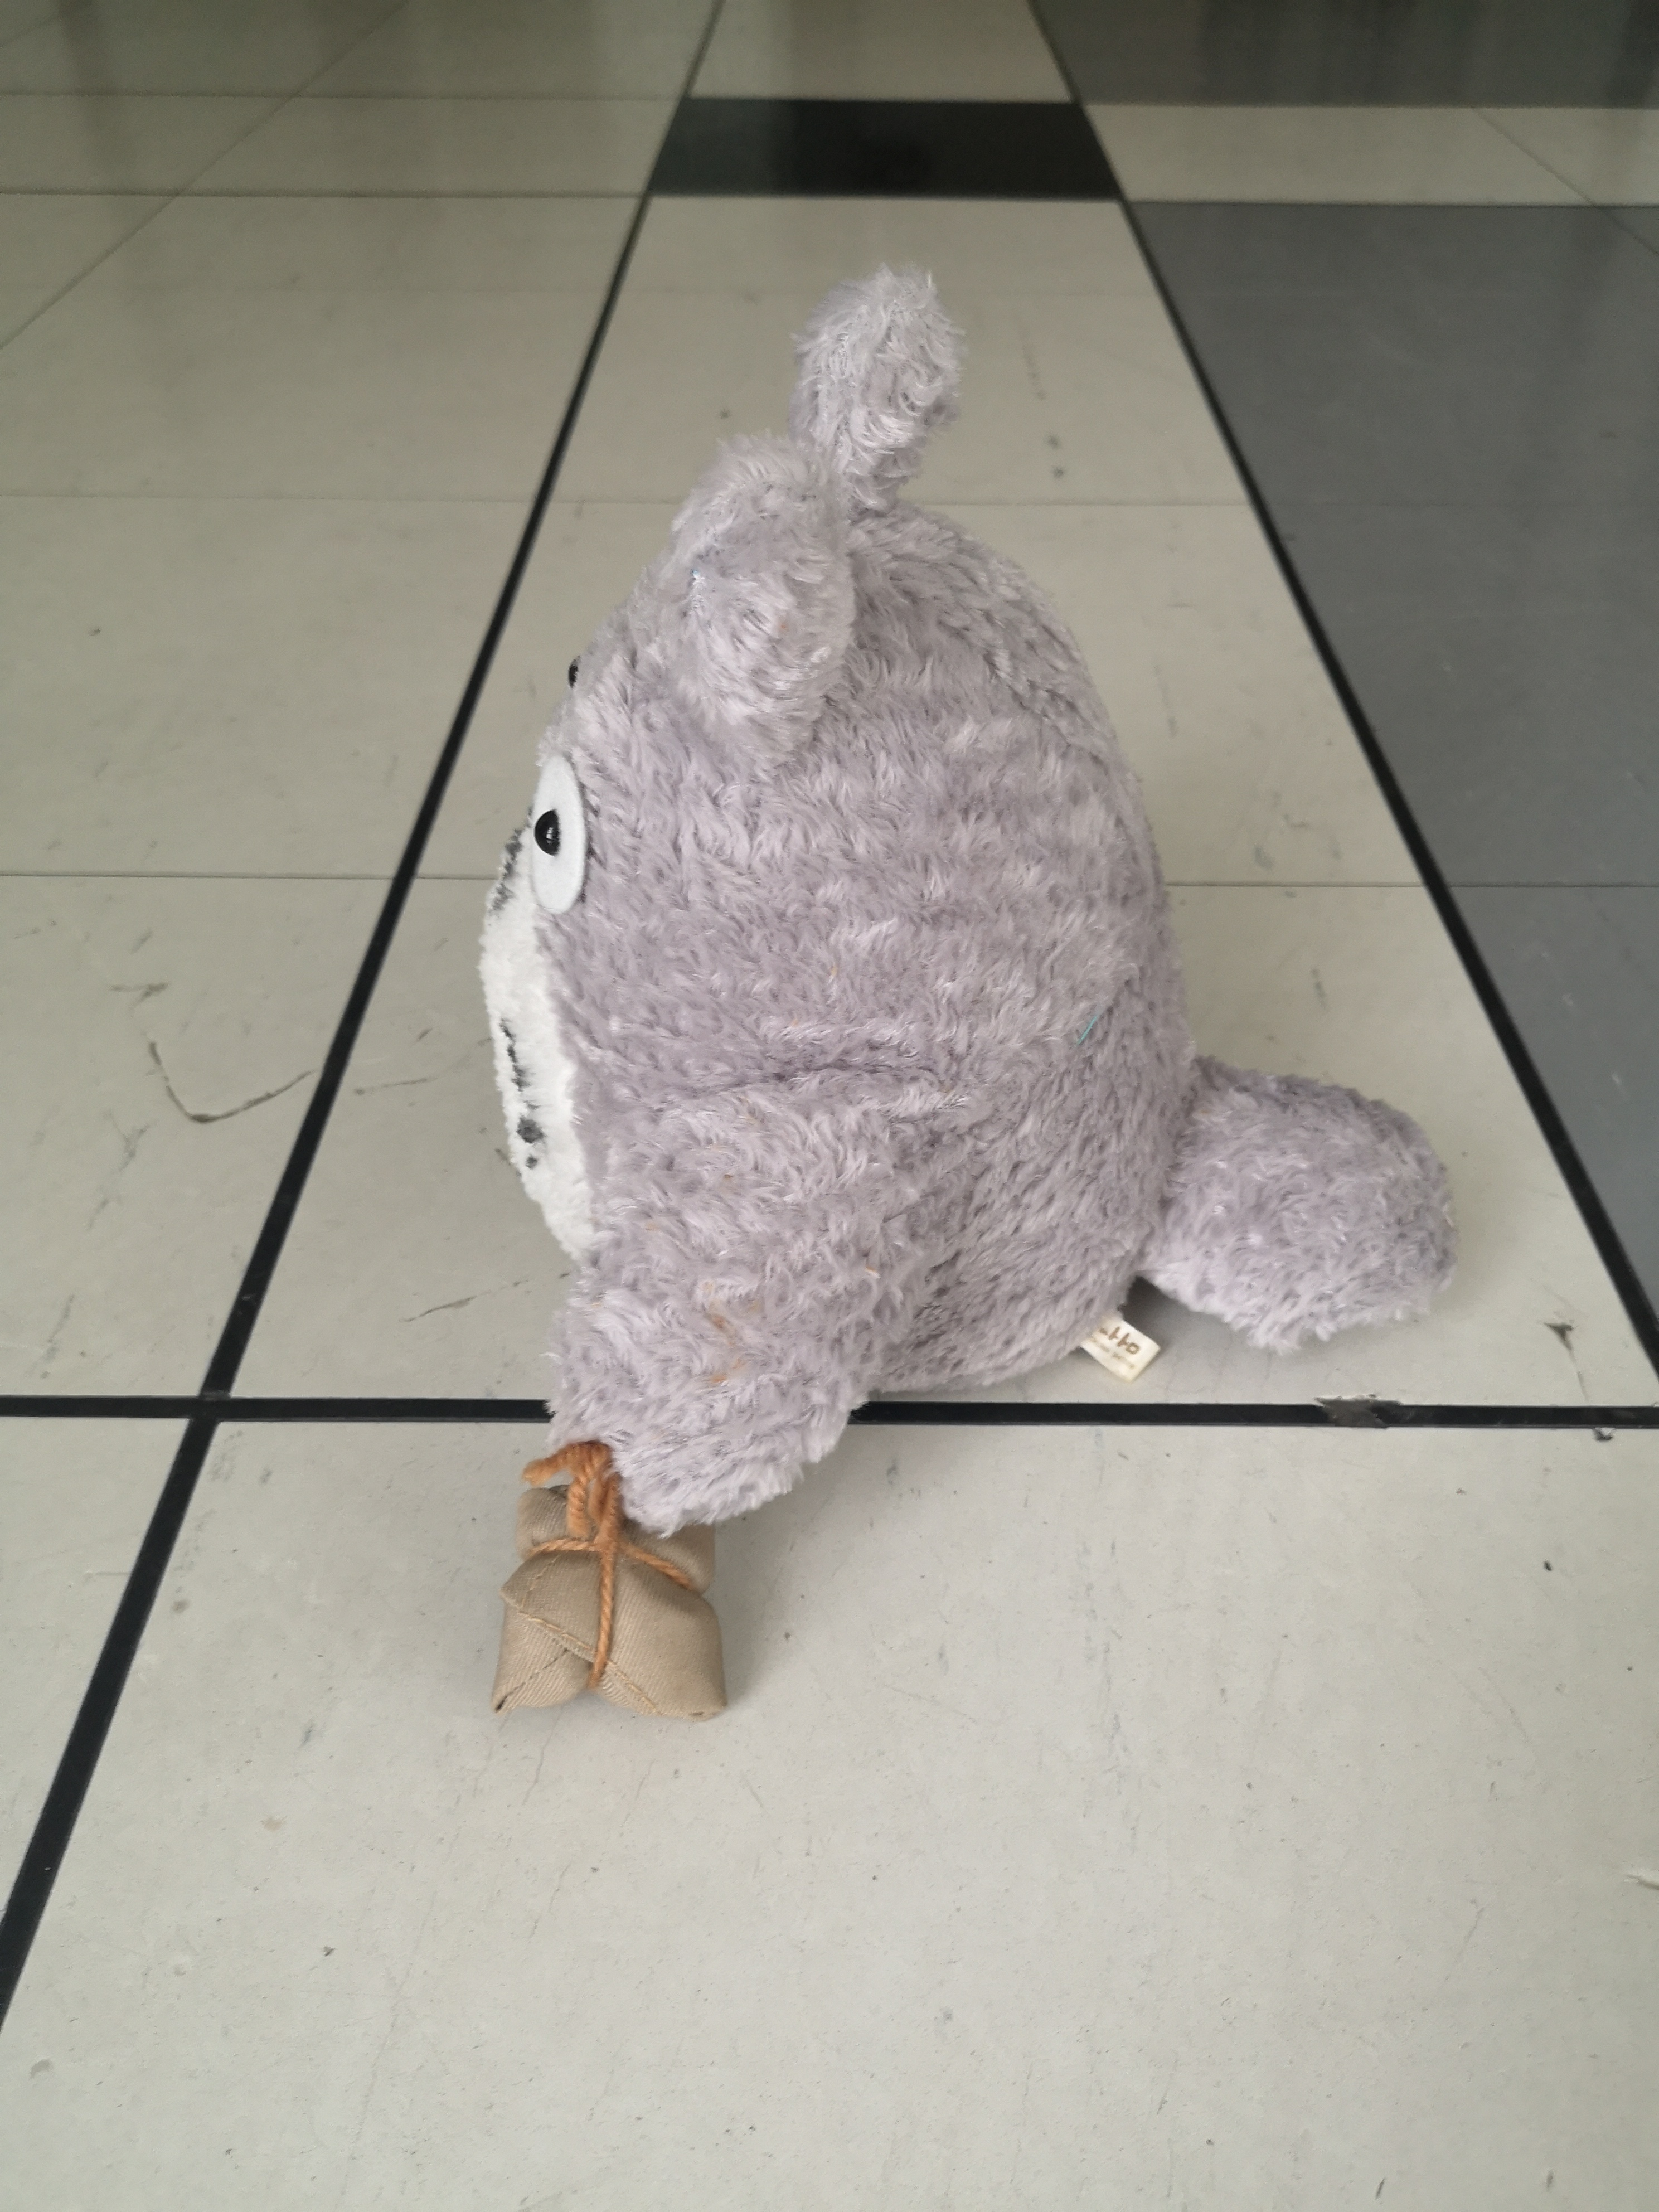totoro: (471, 246, 1462, 1733)
